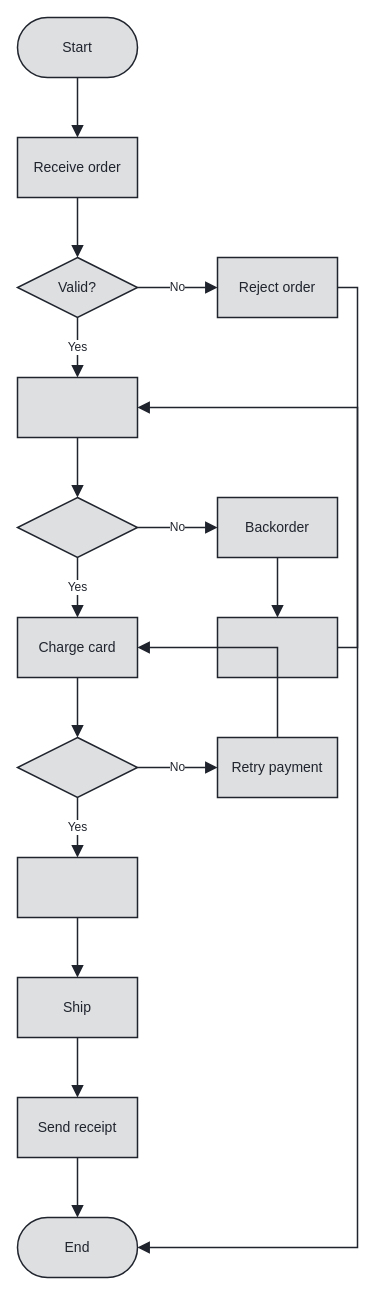
The diagram is 386 pixels wide and 1296 high, and some of its shapes have lost their labels. The shapes that lost their labels are listed below. From the top down, each one's centre as x and y in pixels, then its label:
At point (77, 407): "Check stock".
At point (77, 527): "In stock?".
At point (277, 647): "Notify customer".
At point (77, 767): "Payment ok?".
At point (77, 887): "Pack".
